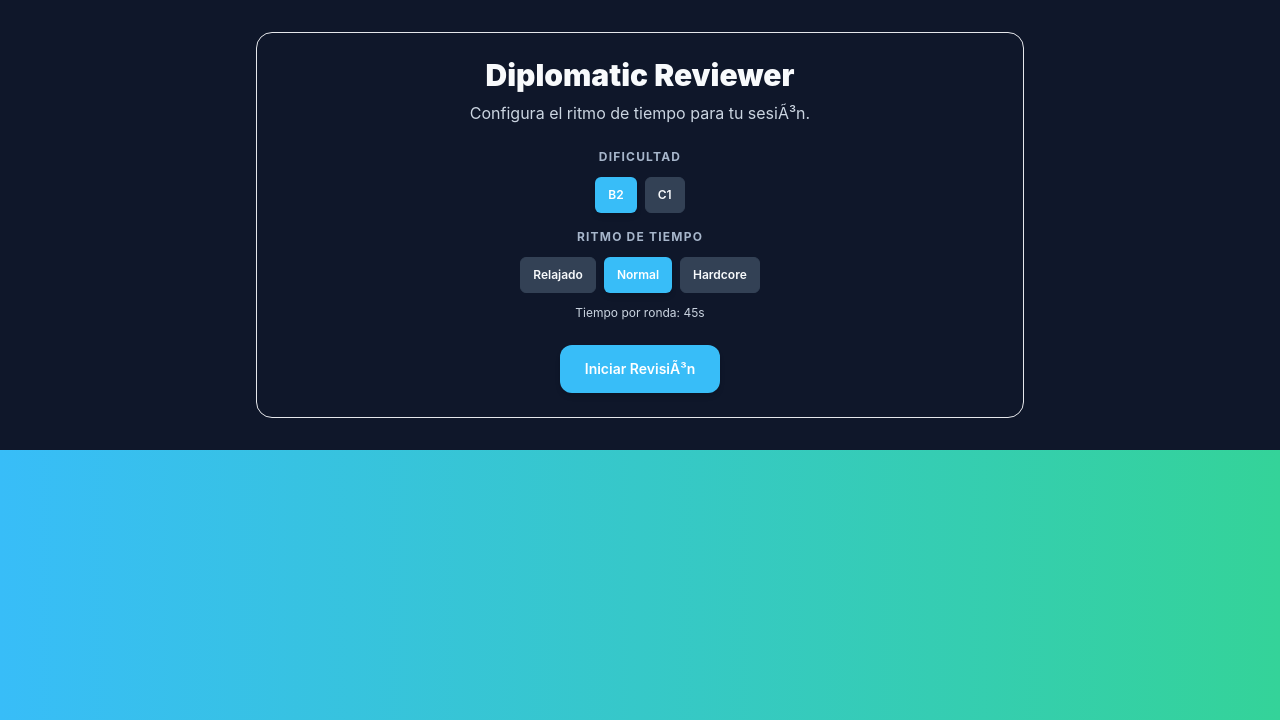
Test case: DiplomaticReviewerView › submits an option and shows round feedback
Click the button "Iniciar RevisiÃ³n" at (640, 369), box 560,345 -> 720,393
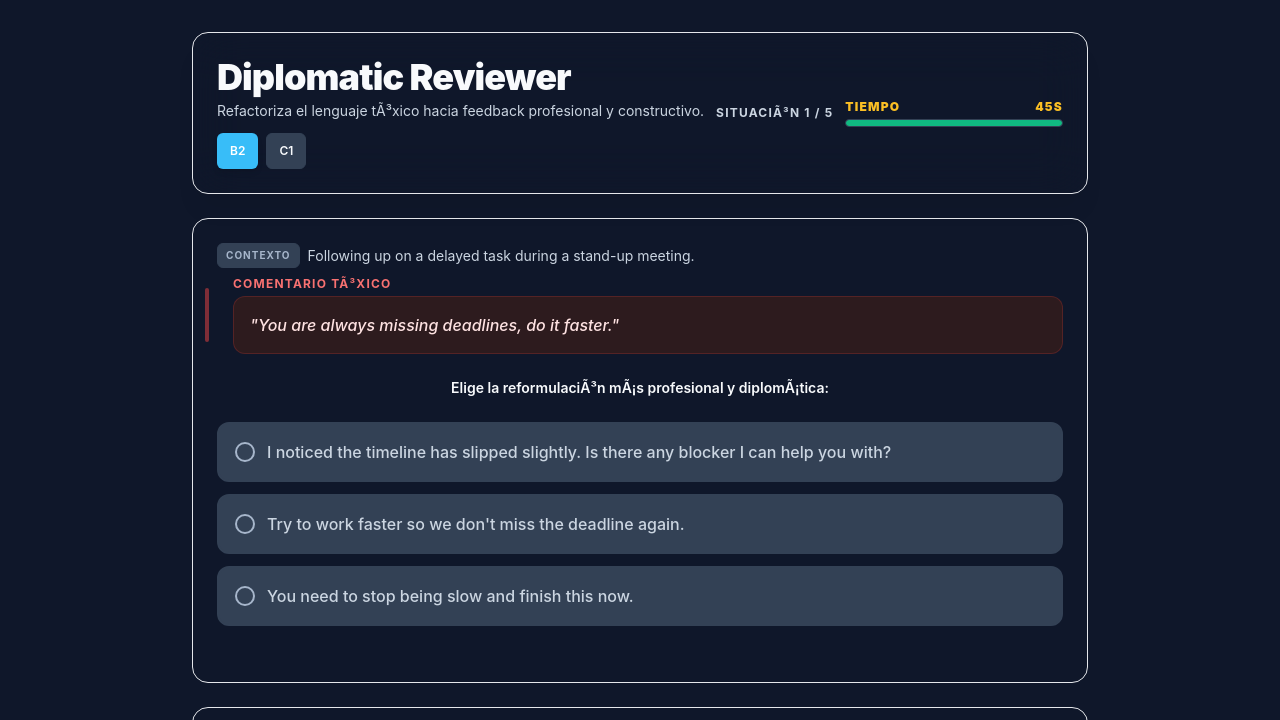
Click the button "Try to work faster so we don't miss the deadline again." at (640, 524), box 217,494 -> 1063,554
(page scrolled)
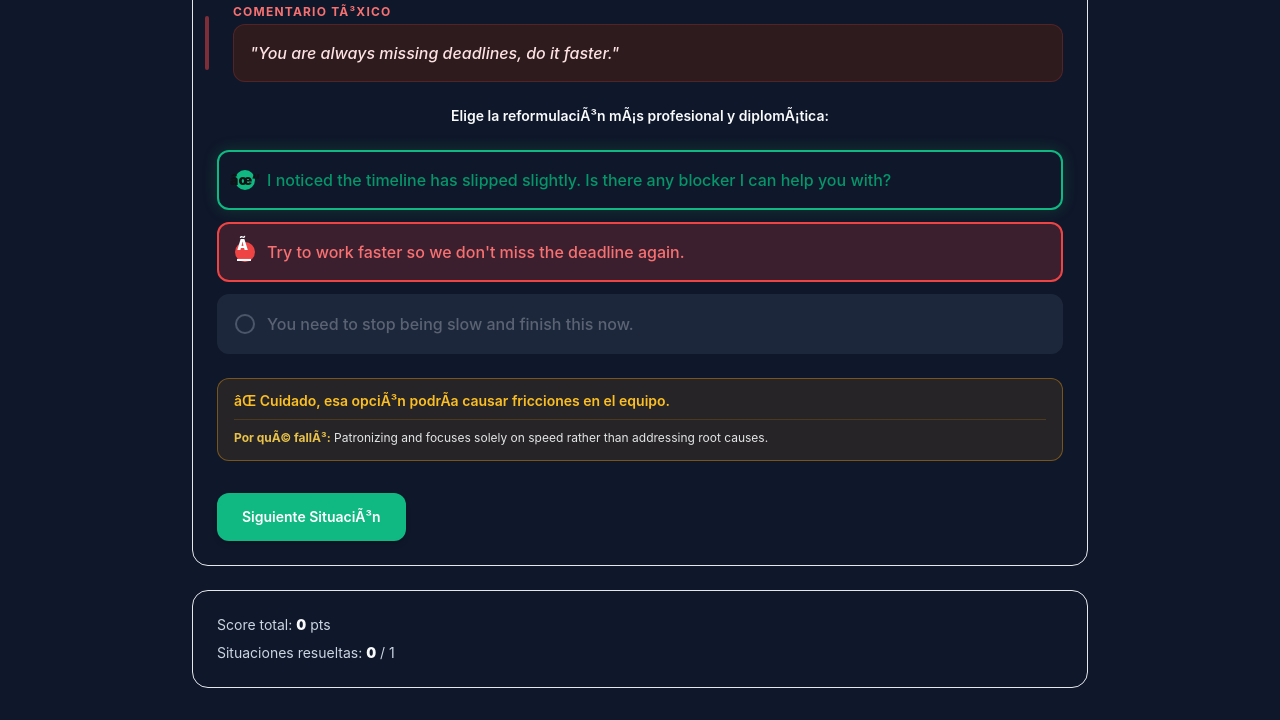
Expected: the text "Score total: 0 pts" is shown, 217,616 -> 330,632
Expected: the button "Siguiente SituaciÃ³n" is shown, 217,492 -> 406,540
